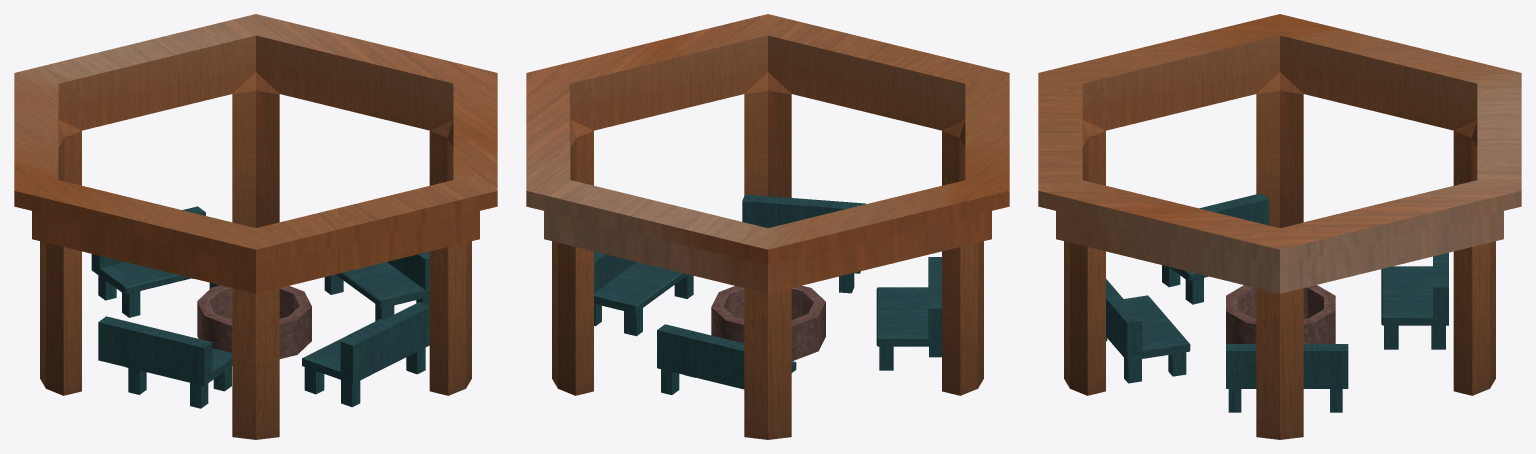
The model's file is 겨울_빌딩_작은거1.fbx.
3 renders of one model, left to right at view 1: azimuth 30°, elevation 25°; view 2: azimuth 150°, elevation 25°; view 3: azimuth 270°, elevation 25°, orthographic.
Parts seen in each view (by area): view 1: Cylinder001, Box001, Box006, Cylinder002, Box011, Box016, Box007, Box009; view 2: Cylinder001, Box001, Box016, Cylinder002, Box011, Box006; view 3: Cylinder001, Box016, Box006, Cylinder002, Box011, Box001.
Part boxes in pixels (x1,y1,x2,y2): Cylinder001: [14, 14, 497, 439]; Box001: [98, 316, 232, 385]; Box006: [302, 302, 429, 383]; Cylinder002: [197, 285, 311, 358]; Box011: [335, 251, 429, 308]; Box016: [91, 206, 205, 294]; Box007: [341, 380, 360, 407]; Box009: [304, 367, 324, 394]; Cylinder001: [526, 14, 1009, 439]; Box001: [876, 257, 941, 346]; Box016: [657, 324, 796, 389]; Cylinder002: [711, 285, 825, 360]; Box011: [594, 251, 688, 313]; Box006: [742, 194, 865, 227]; Cylinder001: [1038, 14, 1521, 439]; Box016: [1381, 252, 1448, 325]; Box006: [1106, 279, 1190, 361]; Cylinder002: [1226, 285, 1335, 343]; Box011: [1226, 344, 1348, 388]; Box001: [1169, 193, 1269, 281].
Bounding box in the file's own units: 159 × 64.96 × 138.
Materials: 1 (1 with a texture image).
